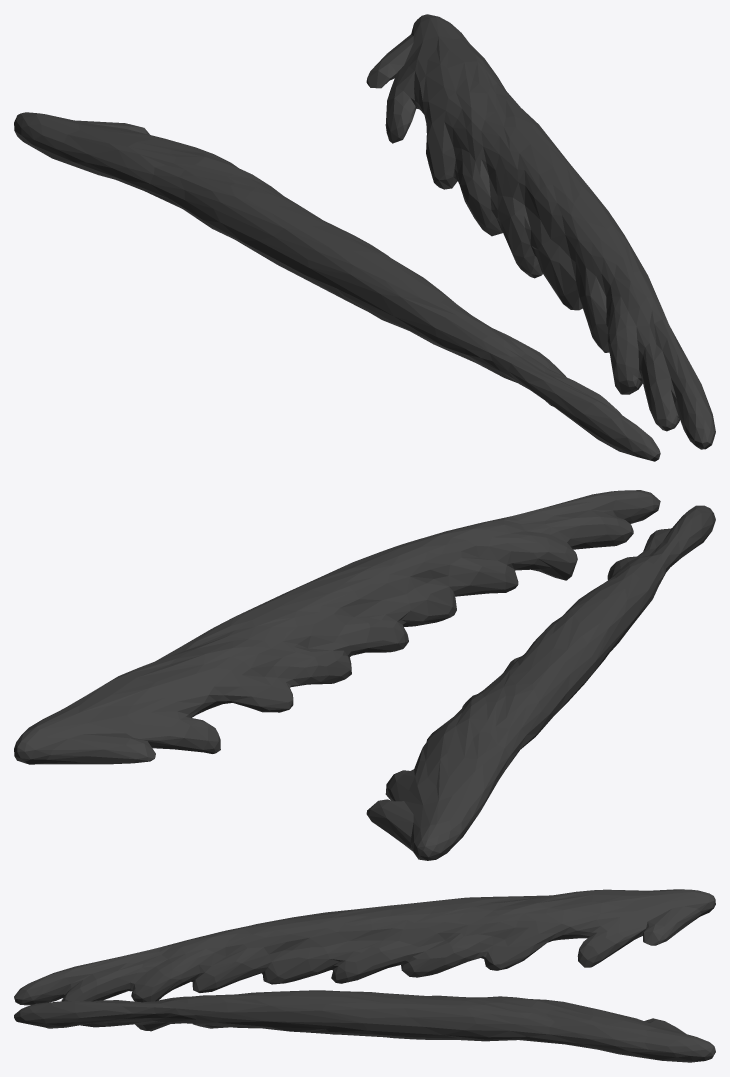
Rendered from m_quadratus_lumborum.glb.
The picture shows the model from 3 angles, top to bottom: view 1: azimuth 30°, elevation 25°; view 2: azimuth 150°, elevation 25°; view 3: azimuth 270°, elevation 25°; orthographic projection. The views are drawn at different scales.
Parts seen in each view (by area): view 1: m_quadratus_lumborum; view 2: m_quadratus_lumborum; view 3: m_quadratus_lumborum.
Part boxes in pixels (x1,y1,x2,y2): m_quadratus_lumborum: (14, 14, 715, 461); m_quadratus_lumborum: (14, 490, 715, 860); m_quadratus_lumborum: (14, 889, 715, 1062).
Size of the model in its own units: 0.00325 by 0.000639 by 0.00605.
Materials: 1 (1 with a texture image).
